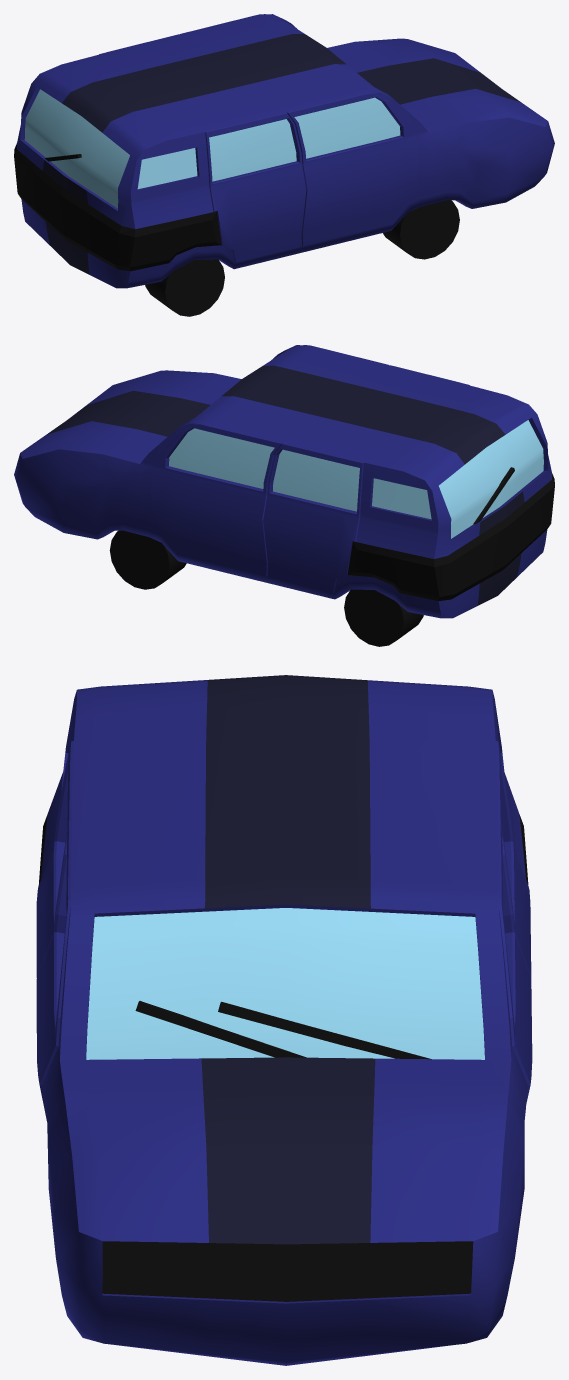
Rendered from Prop_Car.FBX.
The picture shows the model from 3 angles, top to bottom: view 1: azimuth 30°, elevation 25°; view 2: azimuth 150°, elevation 25°; view 3: azimuth 270°, elevation 25°; orthographic projection. The views are drawn at different scales.
Visible parts, largest first — view 1: Plane001; view 2: Plane001; view 3: Plane001.
Part boxes in pixels (box(x1,y1,x2,y2)): Plane001: box(14, 14, 554, 316); Plane001: box(14, 345, 554, 646); Plane001: box(36, 675, 532, 1365).
Bounding box in the file's own units: 360 × 146 × 173.
